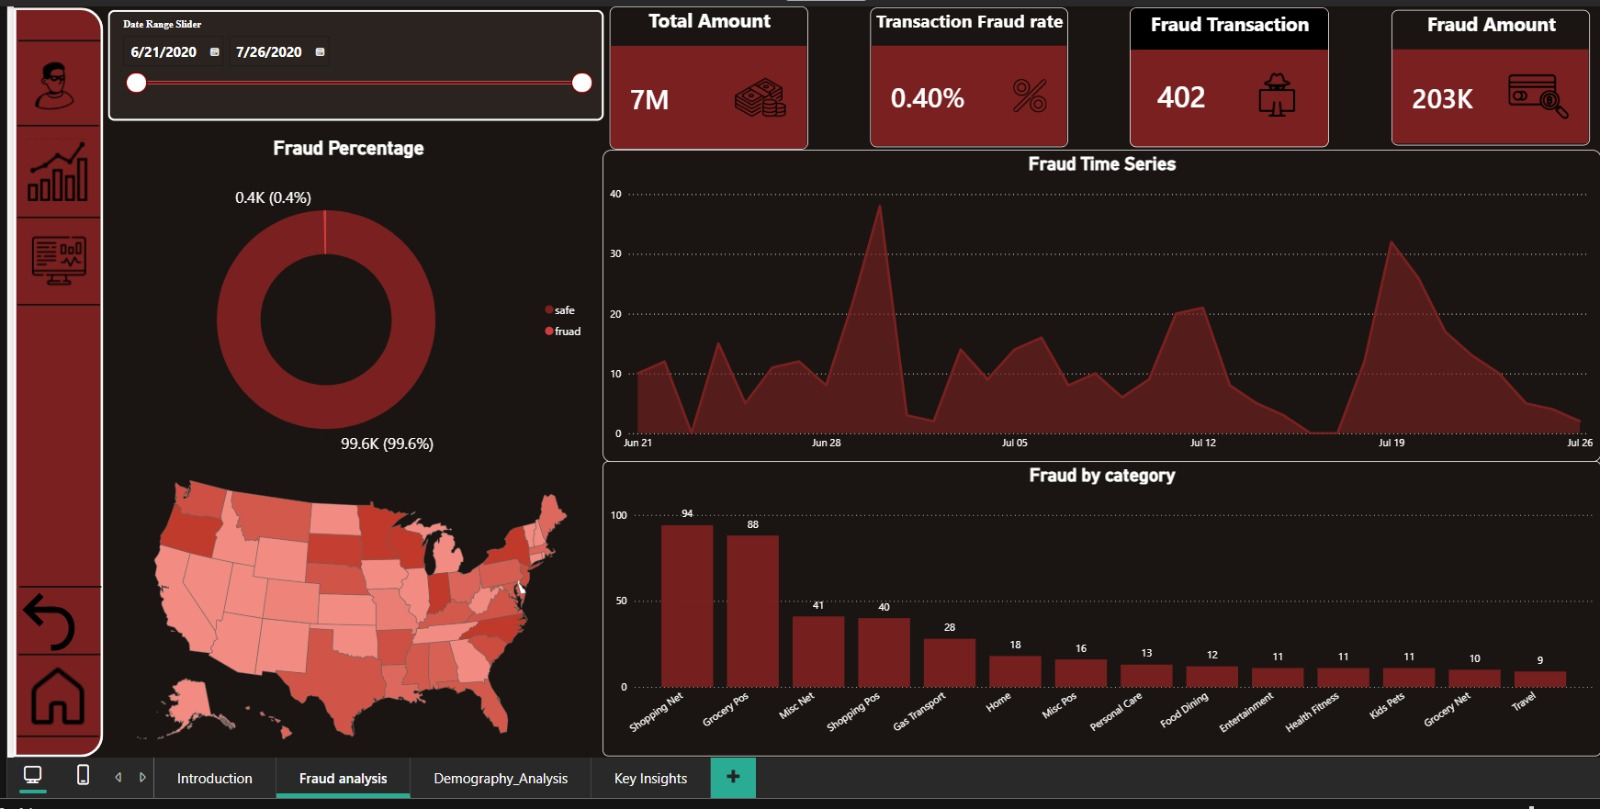

Layout of this report page (visuals, bound fields, positions):
{"tool":"powerbi","page":{"name":"Fraud analysis","canvas":[1900,900],"ordinal":1},"visuals":[{"type":"slicer","fields":{"Values":["dim_date_1_.full_date"]},"box":[1239.3,557.5,586.8,117.4],"z":0},{"type":"donutChart","title":"Fraud Percentage","fields":{"Category":["fact_transactions_1_.is_fraud"],"Y":["CountNonNull(fact_transactions_1_.is_fraud)"]},"box":[108.7,155.3,585.1,402.2],"z":1000},{"type":"clusteredColumnChart","title":"Fraud by category","fields":{"Category":["dim_category_1_.category"],"Y":["Sum(fact_transactions_1_.fruad_num)"]},"box":[705.5,544.7,1194.9,353.6],"z":2000},{"type":"lineChart","title":"Fraud Time Series","fields":{"Category":["fact_transactions_1_.transaction_datetime.Variation.Date Hierarchy.Year","fact_transactions_1_.transaction_datetime.Variation.Date Hierarchy.Month","fact_transactions_1_.transaction_datetime.Variation.Date Hierarchy.Day"],"Y":["Sum(fact_transactions_1_.fruad_num)"]},"box":[705.5,171.5,1194.9,373.3],"z":3000},{"type":"cardVisual","title":"Total Amount","fields":{"Data":["Sum(fact_transactions_1_.amount)"]},"box":[713.2,0,237.5,171.4],"z":4000},{"type":"cardVisual","title":"Fraud Transaction","fields":{"Data":["Sum(fact_transactions_1_.fruad_num)"]},"box":[1336.3,1.3,238.2,167.4],"z":5000},{"type":"cardVisual","title":"Transaction Fraud rate","fields":{"Data":["dim_category_1_.Fraud Rate"]},"box":[1025.3,1.3,236.5,167.4],"z":6000},{"type":"shape","box":[0,1.7,107,897.5],"z":7000},{"type":"actionButton","box":[18.2,266.3,72.6,75.7],"z":8000},{"type":"actionButton","box":[7.6,155.9,88.5,82],"z":9000},{"type":"actionButton","box":[6.9,776.7,91.8,100],"z":10000},{"type":"actionButton","box":[9.1,56,87.8,77.2],"z":11000},{"type":"shape","box":[3.5,226.1,99,51.8],"z":12000},{"type":"shape","box":[3.5,317.6,99,79.4],"z":13000},{"type":"shape","box":[5.2,15.5,98,51.8],"z":14000},{"type":"shape","box":[3.5,117.4,98,51.8],"z":15000},{"type":"shapeMap","fields":{"Category":["dim_customer_1_.state"],"Value":["Sum(fact_transactions_1_.fruad_num)"]},"box":[62.1,545.4,686.9,354.1],"z":16000},{"type":"shape","box":[5.2,737,98,78.6],"z":17000},{"type":"shape","box":[3.5,847.5,98,51.8],"z":18000},{"type":"slicer","fields":{"Values":["dim_date_1_.full_date"]},"box":[112.2,3.5,593.8,132.9],"z":19000},{"type":"cardVisual","title":"Fraud Amount","fields":{"Data":["fact_transactions_1_.Fraud Amount"]},"box":[1649.1,3.9,237.7,162.3],"z":20000},{"type":"actionButton","box":[1.8,695.1,99.8,82],"z":21000},{"type":"shape","box":[7.1,655.9,98,78.6],"z":22000}]}

Visuals, with their boxes on the page's 1900x900 design canvas (x1, y1, x2, y2). These are canvas units, not pixel positions in the 1600x809 screenshot, which may show the page scaled, cropped or inside an application window:
slicer - dim_date_1_.full_date: (x1=1239, y1=558, x2=1826, y2=675)
"Fraud Percentage" donutChart: (x1=109, y1=155, x2=694, y2=558)
"Fraud by category" clusteredColumnChart: (x1=706, y1=545, x2=1900, y2=898)
"Fraud Time Series" lineChart: (x1=706, y1=172, x2=1900, y2=545)
"Total Amount" cardVisual: (x1=713, y1=0, x2=951, y2=171)
"Fraud Transaction" cardVisual: (x1=1336, y1=1, x2=1574, y2=169)
"Transaction Fraud rate" cardVisual: (x1=1025, y1=1, x2=1262, y2=169)
shape: (x1=0, y1=2, x2=107, y2=899)
actionButton: (x1=18, y1=266, x2=91, y2=342)
actionButton: (x1=8, y1=156, x2=96, y2=238)
actionButton: (x1=7, y1=777, x2=99, y2=877)
actionButton: (x1=9, y1=56, x2=97, y2=133)
shape: (x1=4, y1=226, x2=102, y2=278)
shape: (x1=4, y1=318, x2=102, y2=397)
shape: (x1=5, y1=16, x2=103, y2=67)
shape: (x1=4, y1=117, x2=102, y2=169)
shapeMap - dim_customer_1_.state x Sum(fact_transactions_1_.fruad_num): (x1=62, y1=545, x2=749, y2=900)
shape: (x1=5, y1=737, x2=103, y2=816)
shape: (x1=4, y1=848, x2=102, y2=899)
slicer - dim_date_1_.full_date: (x1=112, y1=4, x2=706, y2=136)
"Fraud Amount" cardVisual: (x1=1649, y1=4, x2=1887, y2=166)
actionButton: (x1=2, y1=695, x2=102, y2=777)
shape: (x1=7, y1=656, x2=105, y2=734)
